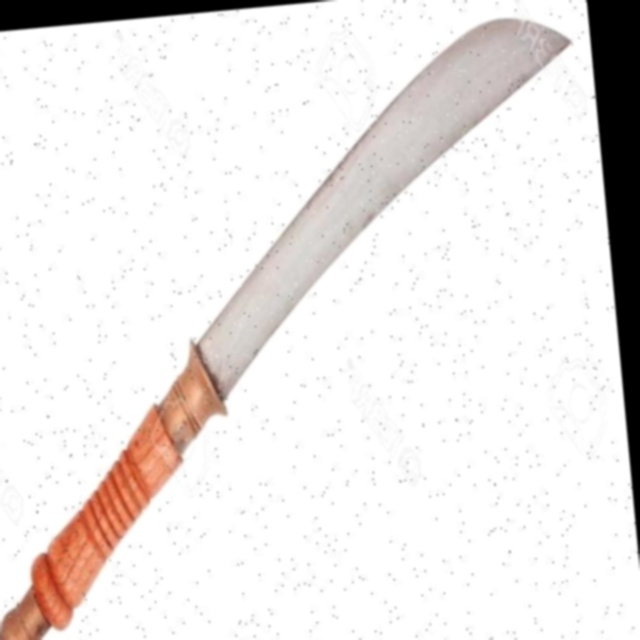Sharp-Object: (0, 7, 629, 640)
